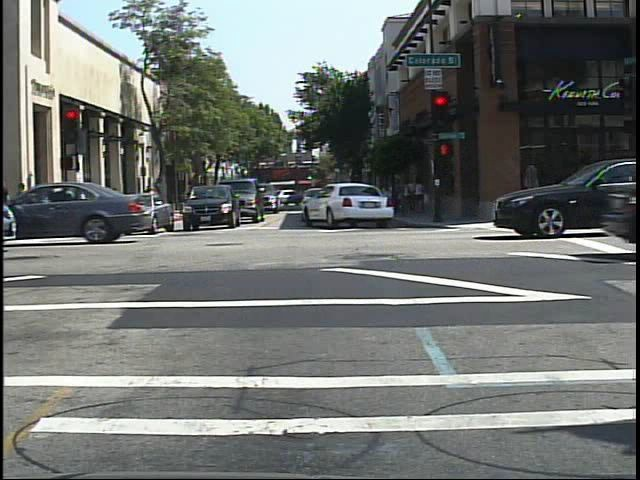person: (100, 186, 114, 227), (144, 181, 160, 213), (140, 181, 155, 213)
